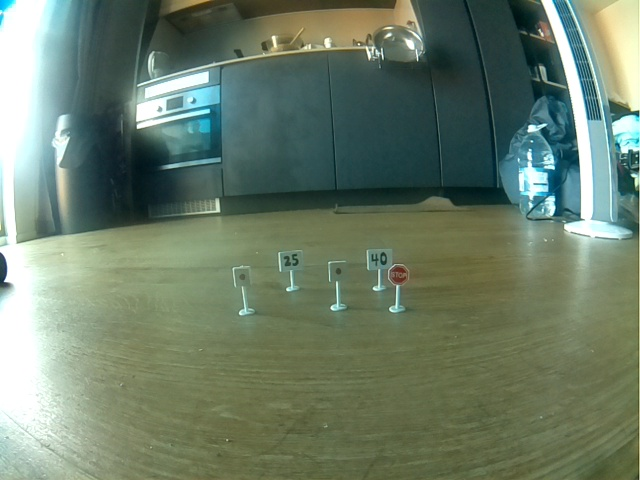red light: (232, 263, 252, 290), (328, 261, 346, 281)
speed 25: (279, 252, 303, 270)
speed 40: (368, 247, 393, 269), (388, 263, 409, 287)
